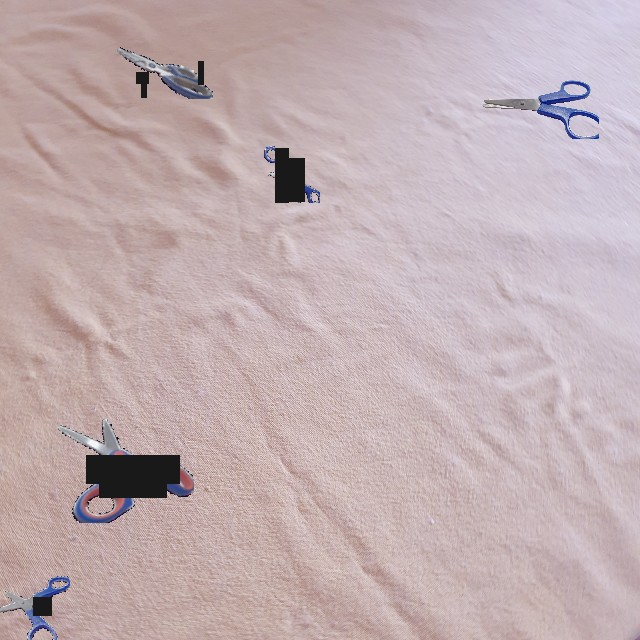scissors: (57, 418, 194, 523), (483, 80, 599, 139), (117, 47, 213, 99), (0, 576, 70, 640), (264, 146, 320, 203)
